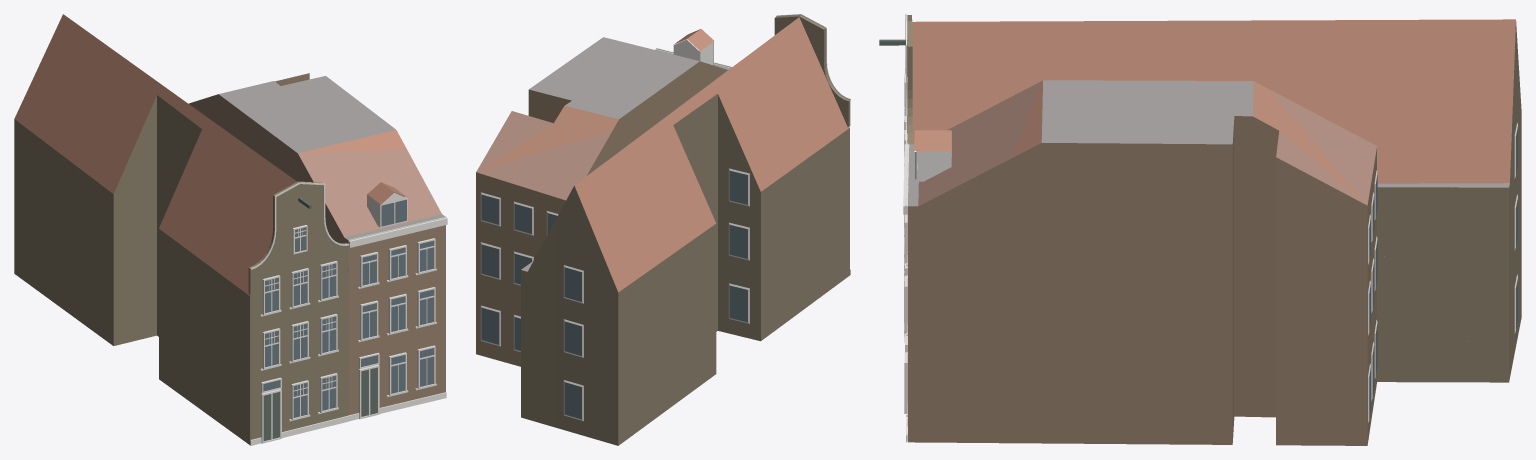
Rendered from chunk-face-groenburgwal-1-37-h3.glb.
3 views of the same model, side by side, from view 1: azimuth 30°, elevation 25°; view 2: azimuth 150°, elevation 25°; view 3: azimuth 270°, elevation 25° (orthographic). The views are drawn at different scales.
Parts seen in each view (by area): view 1: face-groenburgwal-1-37-h3; view 2: face-groenburgwal-1-37-h3; view 3: face-groenburgwal-1-37-h3.
Part boxes in pixels (x1,y1,x2,y2): face-groenburgwal-1-37-h3: (14,14,447,445); face-groenburgwal-1-37-h3: (476,14,850,445); face-groenburgwal-1-37-h3: (879,14,1521,445).
Size of the model in its own units: 11.66 by 13.83 by 24.5.
